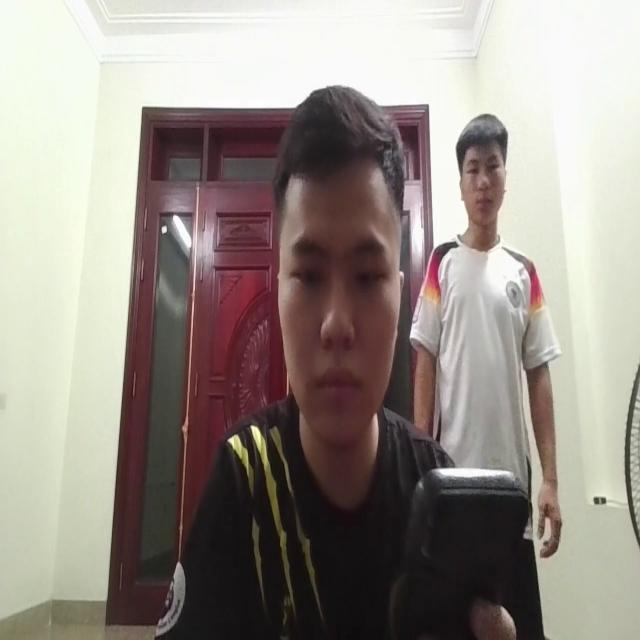extra_person: (422, 100, 560, 556)
phone: (394, 451, 530, 637)
student: (143, 90, 462, 640)
